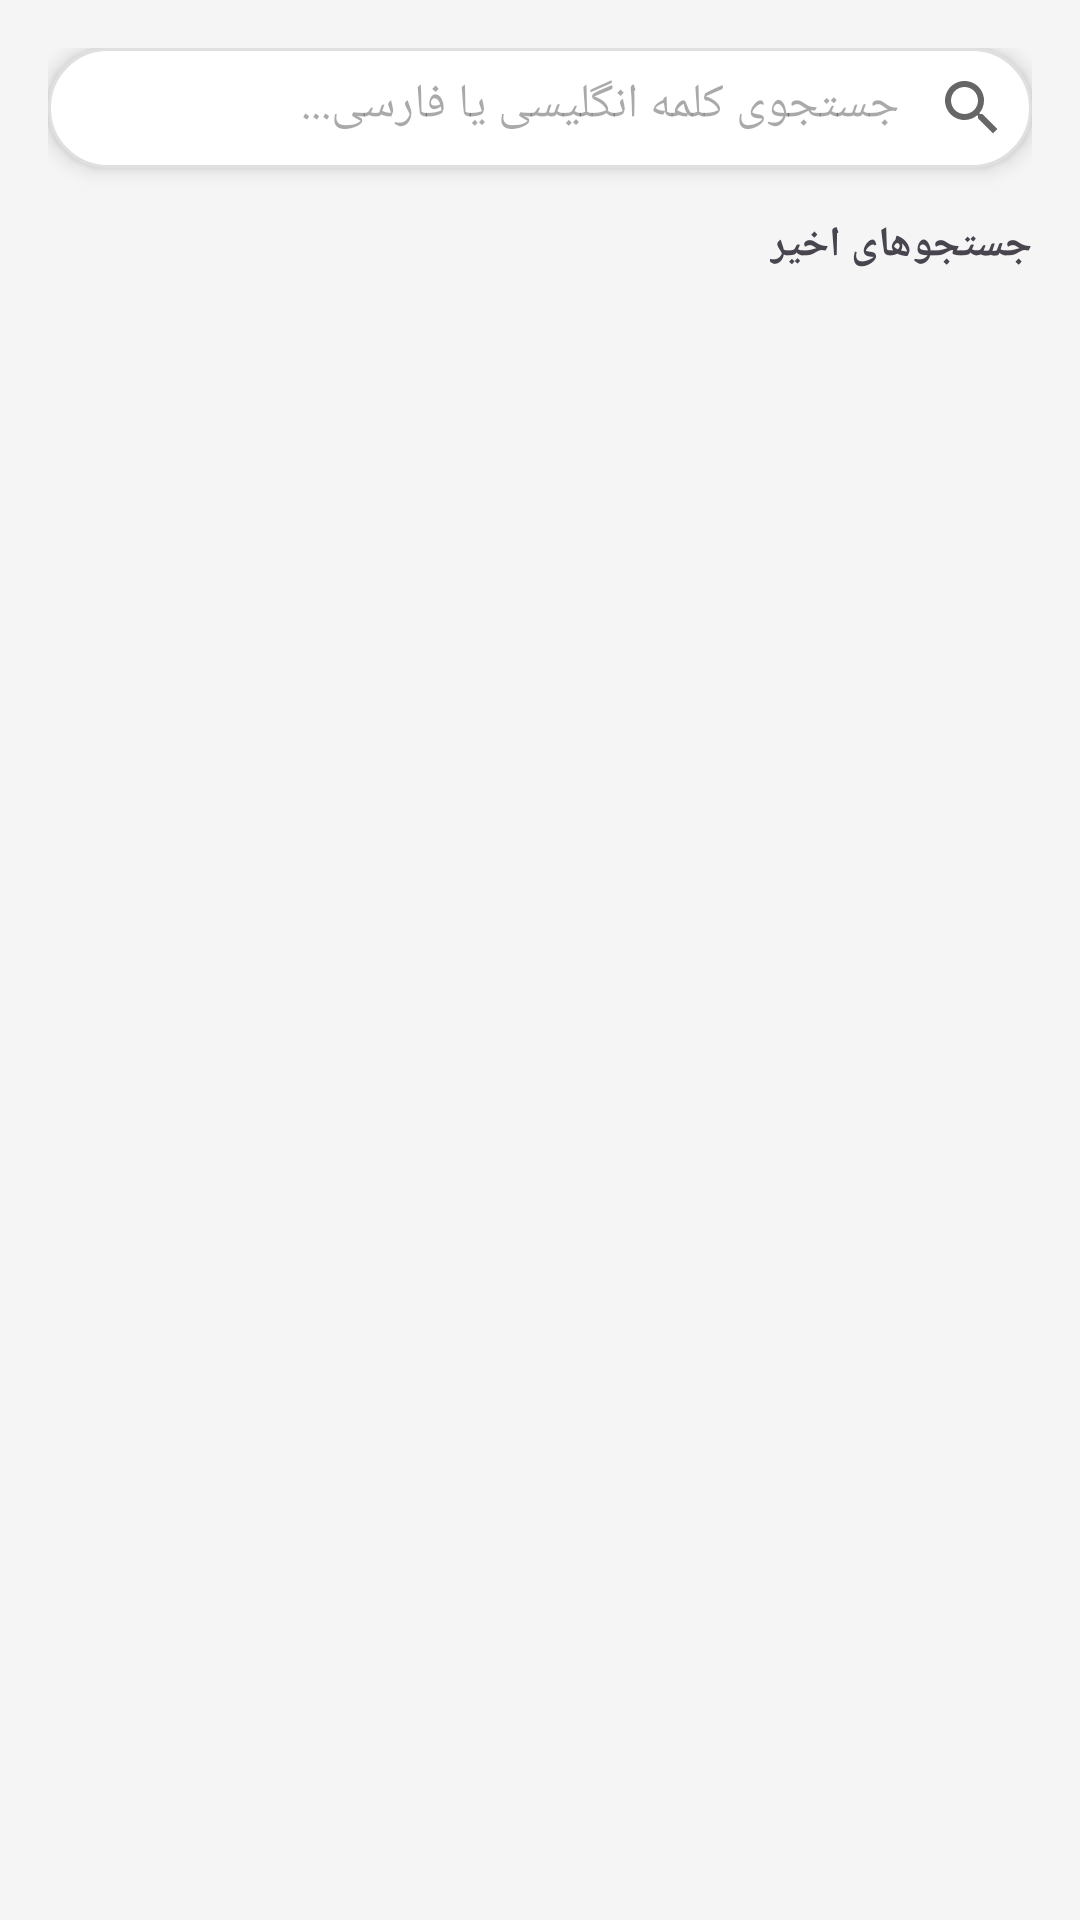

Icon bounding boxes for this 1080 x 1920 phone screenshot, format [x1, y1, x2, y2]:
search: [945, 81, 997, 133]
